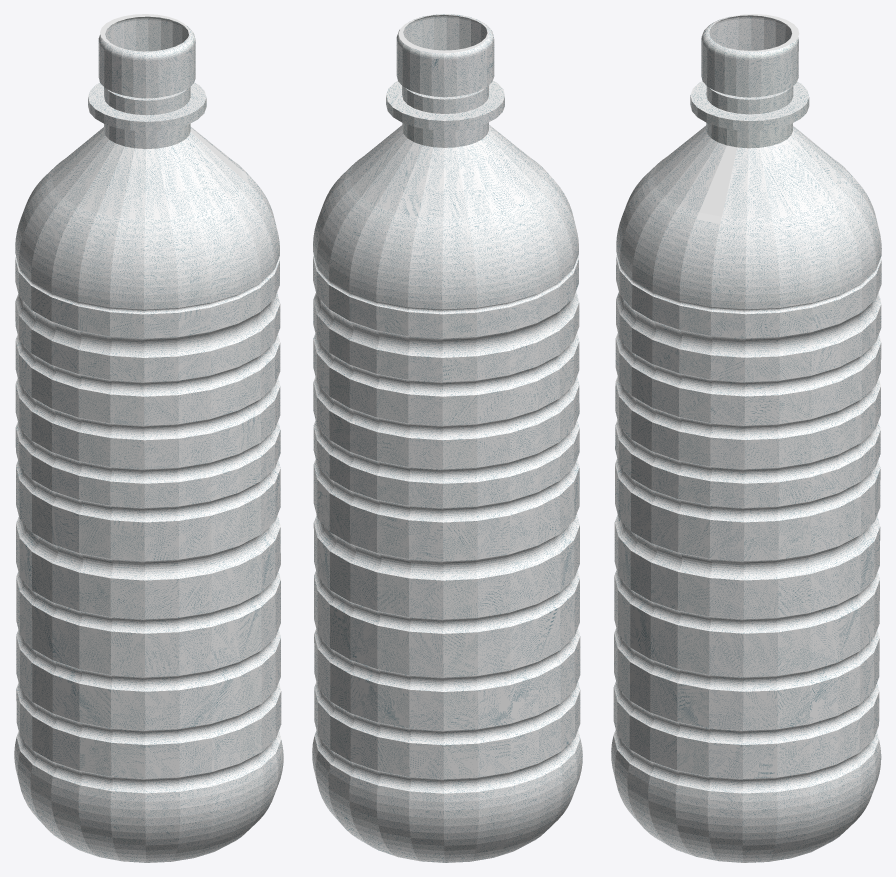
3 views of the same model, side by side, from view 1: azimuth 30°, elevation 25°; view 2: azimuth 150°, elevation 25°; view 3: azimuth 270°, elevation 25° (orthographic).
Parts seen in each view (by area): view 1: mesh1.002_mesh1-geometry; view 2: mesh1.002_mesh1-geometry; view 3: mesh1.002_mesh1-geometry.
Boxes of the visible parts, left/top/right/bottom form: mesh1.002_mesh1-geometry: left=14, top=14, right=283, bottom=862; mesh1.002_mesh1-geometry: left=312, top=14, right=582, bottom=862; mesh1.002_mesh1-geometry: left=611, top=14, right=881, bottom=862.
Bounding box in the file's own units: 0.281 × 0.9175 × 0.2815.
